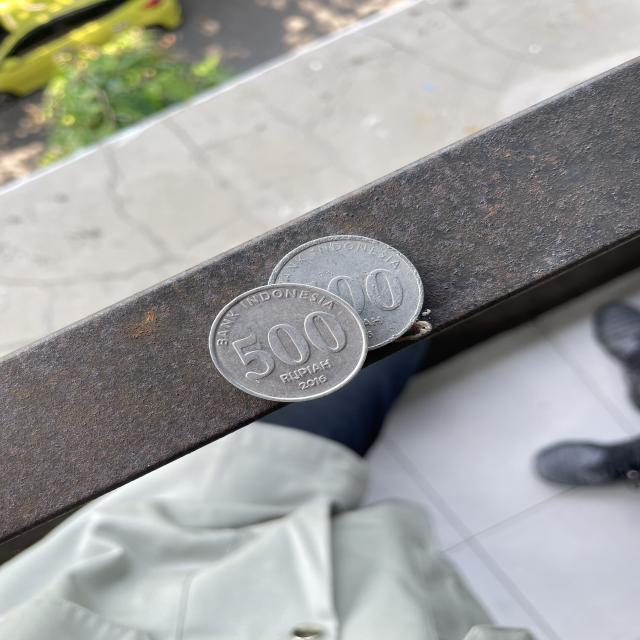500-kuning: (208, 284, 368, 402)
